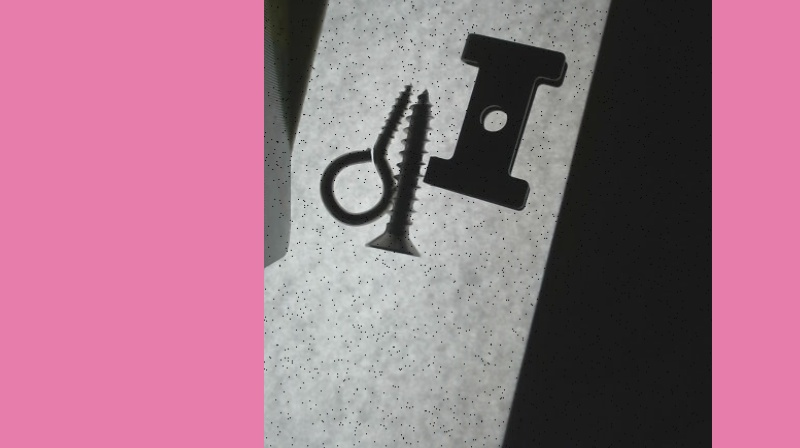O001: (316, 78, 416, 229)
O002: (422, 30, 569, 212)
S001: (360, 87, 432, 262)
